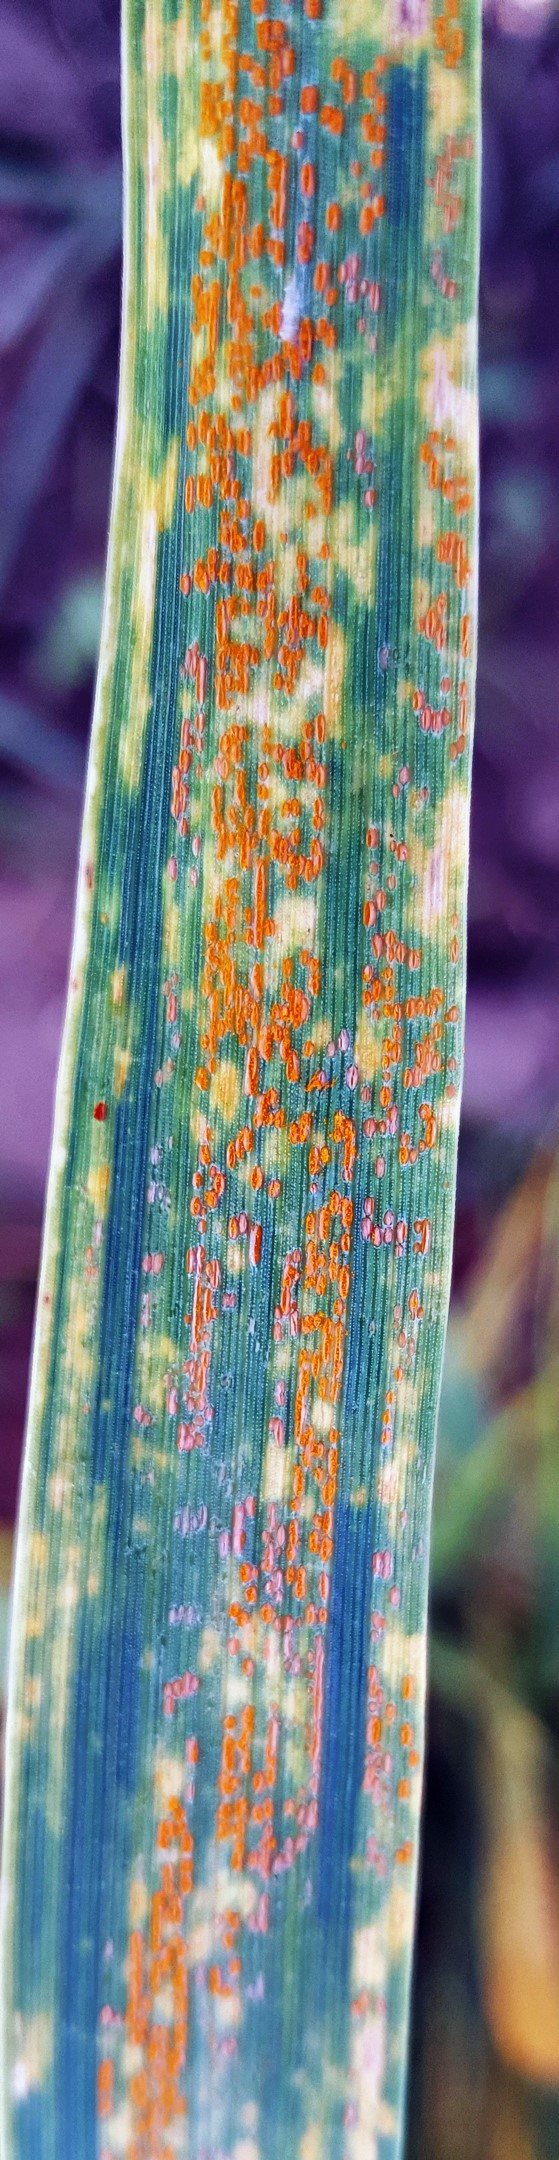Leaf Rust: (32, 74, 485, 2108)
